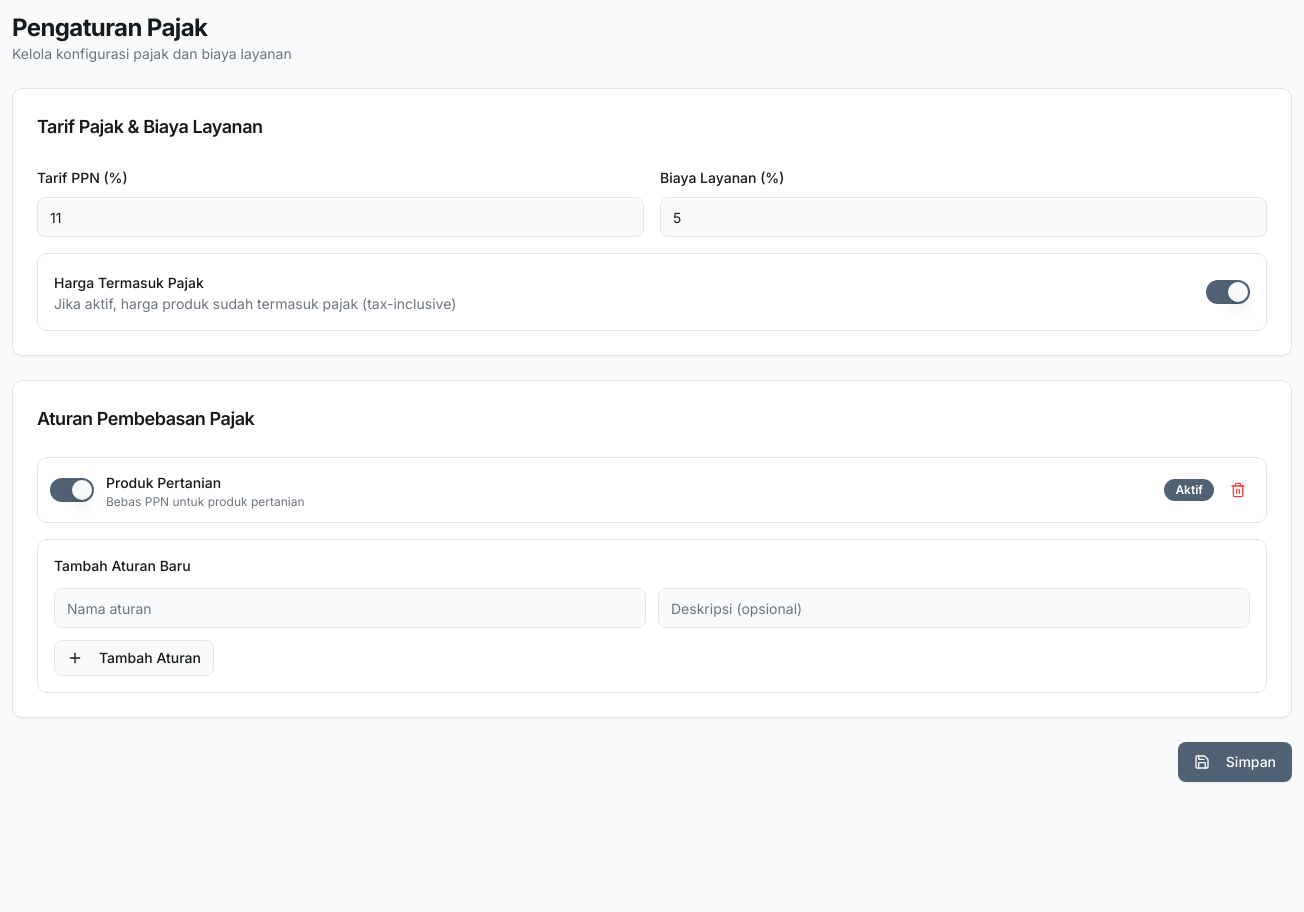
Test: TaxSettingsPage › adds a new exemption rule
Expected: the text "Tambah Aturan Baru" is shown, [54,557,191,574]
Fill in the new rule name
Type "Produk Digital" into the field with placeholder "Nama aturan" at (350, 608), box [54,588,646,628]
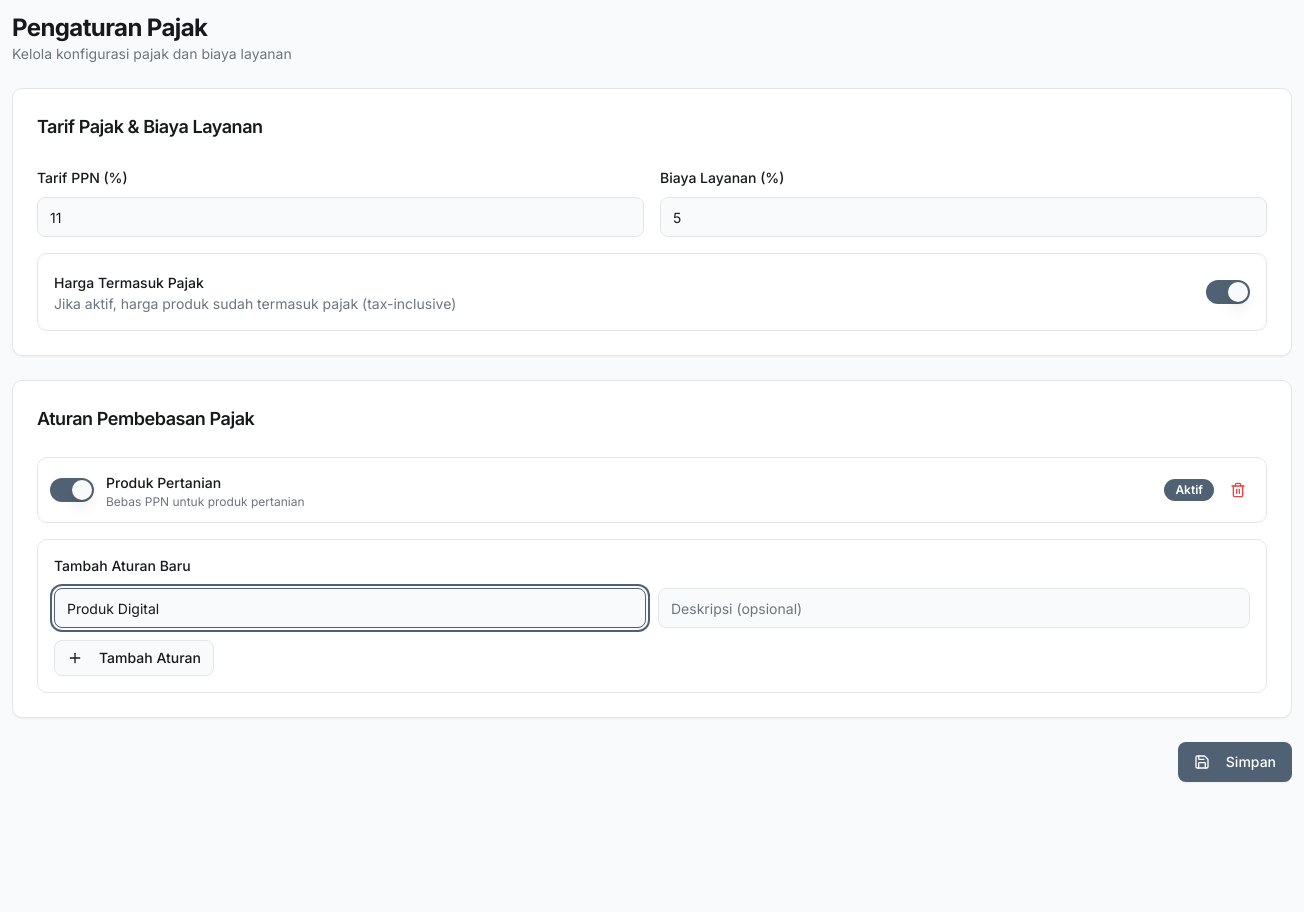
Fill in the description
Type "Bebas pajak untuk produk digital" into the field with placeholder "Deskripsi (opsional)" at (954, 608), box [658,588,1250,628]
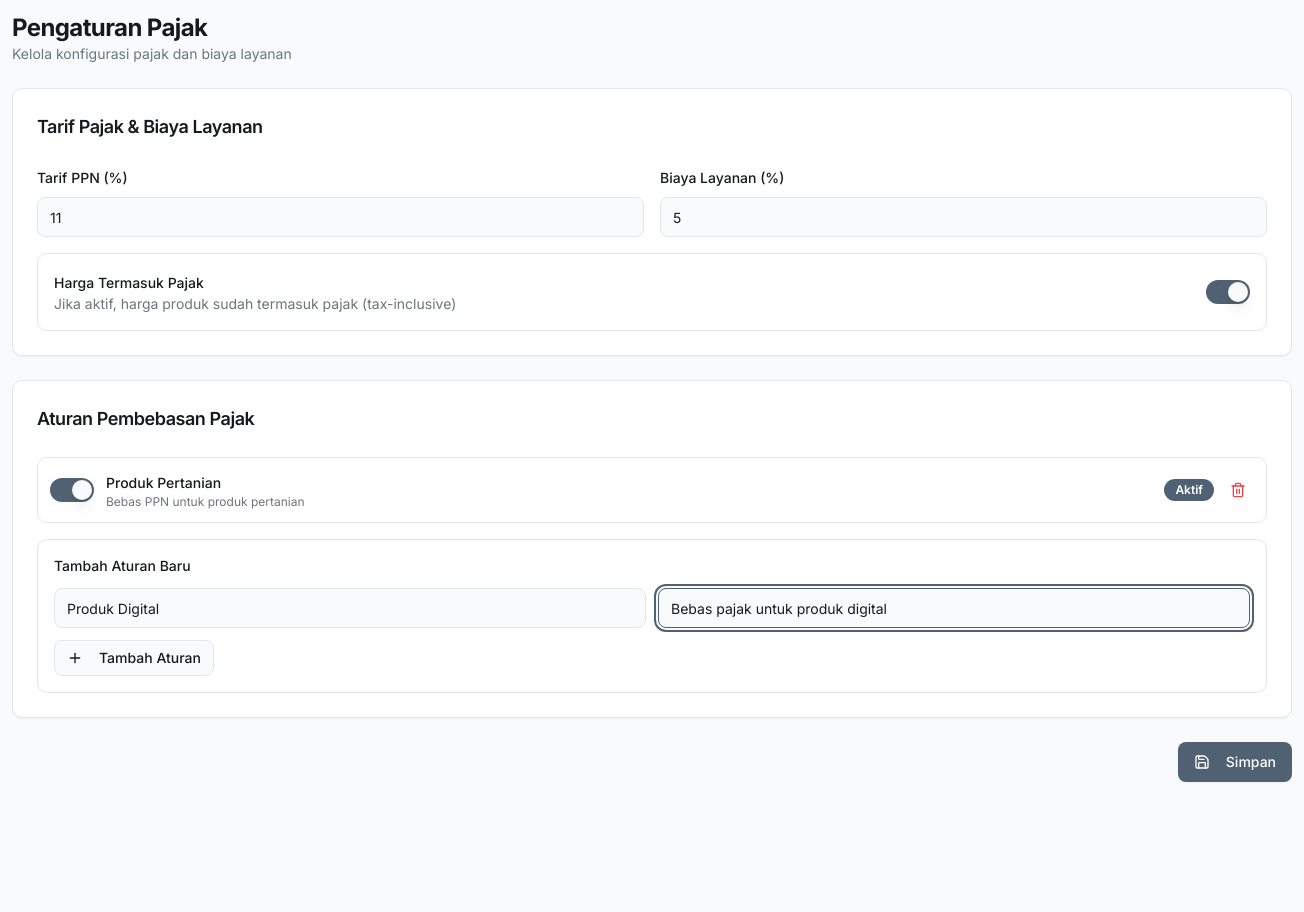
Click add button
Click the button "Tambah Aturan" at (134, 658), box [54,640,214,676]
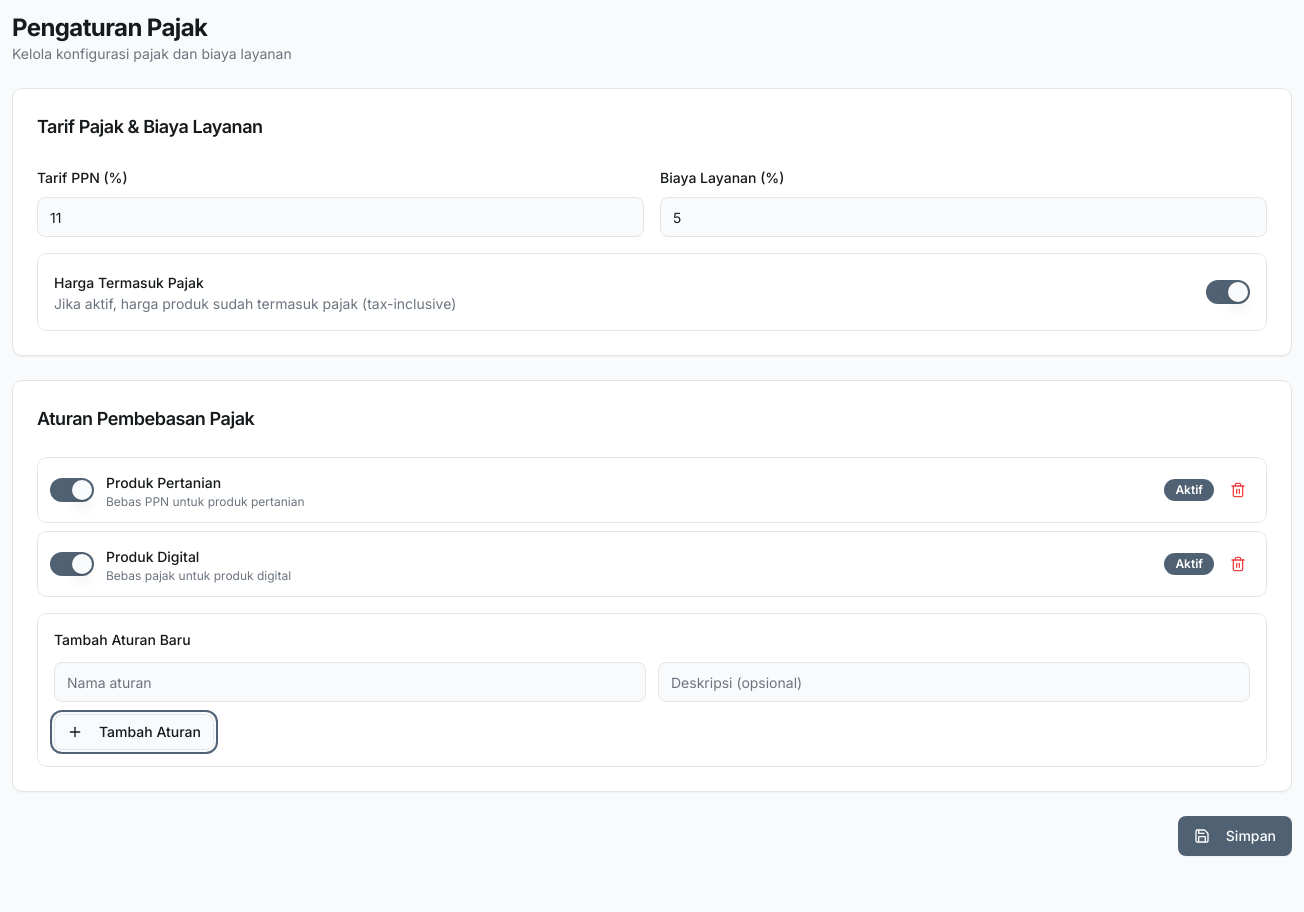
Result: the text "Produk Digital" is shown at [106,548,199,565]
